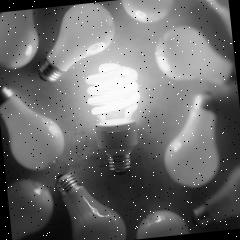lightbulb: (0, 0, 240, 240), (82, 58, 147, 174), (32, 0, 120, 82), (156, 90, 223, 190), (0, 79, 66, 173), (151, 19, 234, 90), (53, 165, 127, 240), (186, 161, 240, 227), (6, 175, 56, 240), (0, 8, 41, 71), (133, 206, 189, 238), (120, 0, 176, 25)
